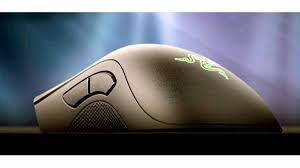mouse: (32, 43, 286, 138)
